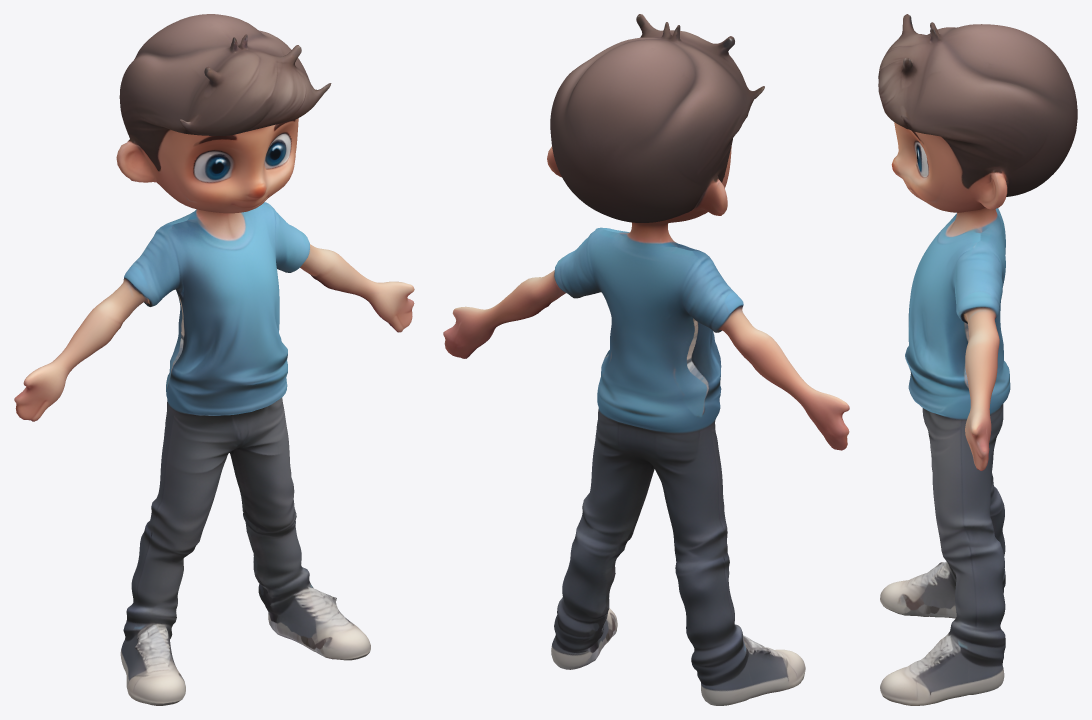
File: cute_boy.glb
3 renders of one model, left to right at view 1: azimuth 30°, elevation 25°; view 2: azimuth 150°, elevation 25°; view 3: azimuth 270°, elevation 25°, orthographic. The views are drawn at different scales.
Visible parts, largest first — view 1: model_1; view 2: model_1; view 3: model_1.
Boxes of the visible parts, x1,y1,x2,y2 form: model_1: (14,14,414,705); model_1: (443,14,849,705); model_1: (878,14,1077,705).
Bounding box in the file's own units: 1.24 × 1.88 × 0.5414.
1 material, 1 textured.
